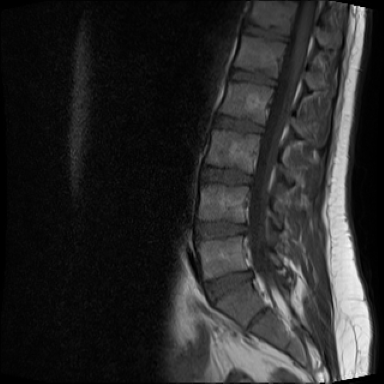Lumbar Disc Bulge (LDB): (192, 256, 259, 309)
Normal IVD: (198, 157, 256, 190), (189, 211, 250, 241), (210, 107, 267, 138), (228, 62, 280, 91), (241, 16, 293, 43)
